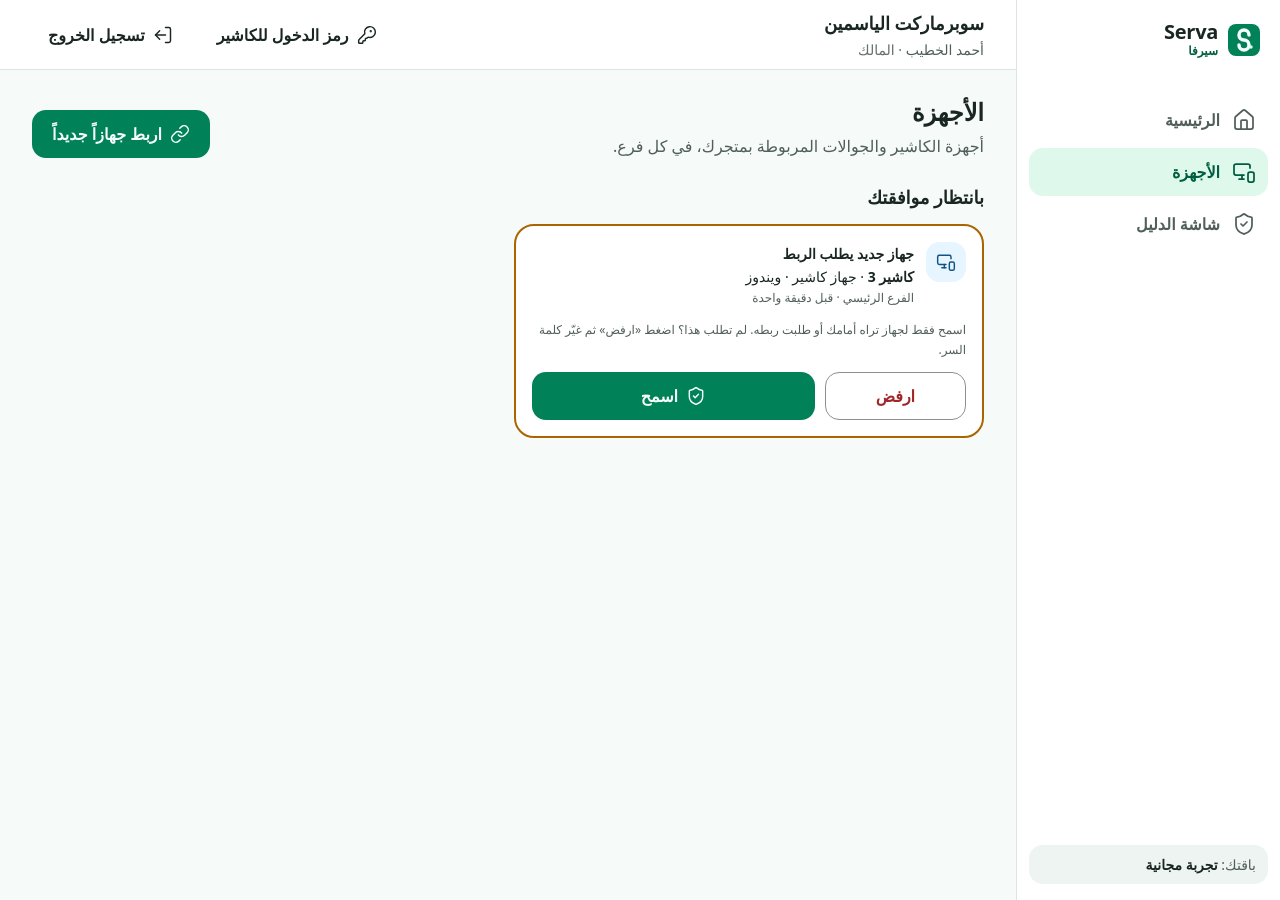
Test: approving a new device › refuses one
Click the button with aria-label "ارفض: كاشير 3" at x=895, y=396, box [825,372,966,420]
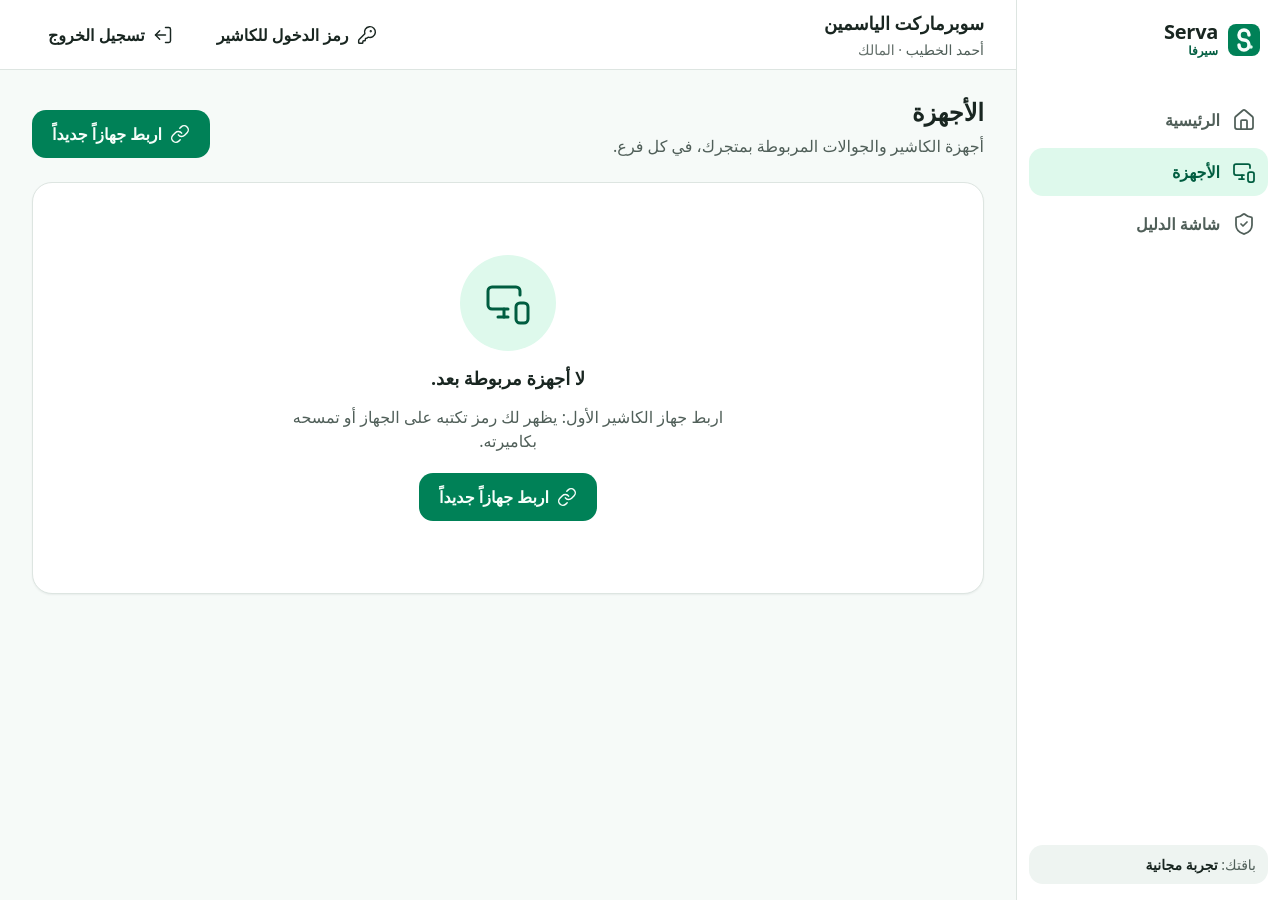
Expected: the text "كاشير 3" is gone
